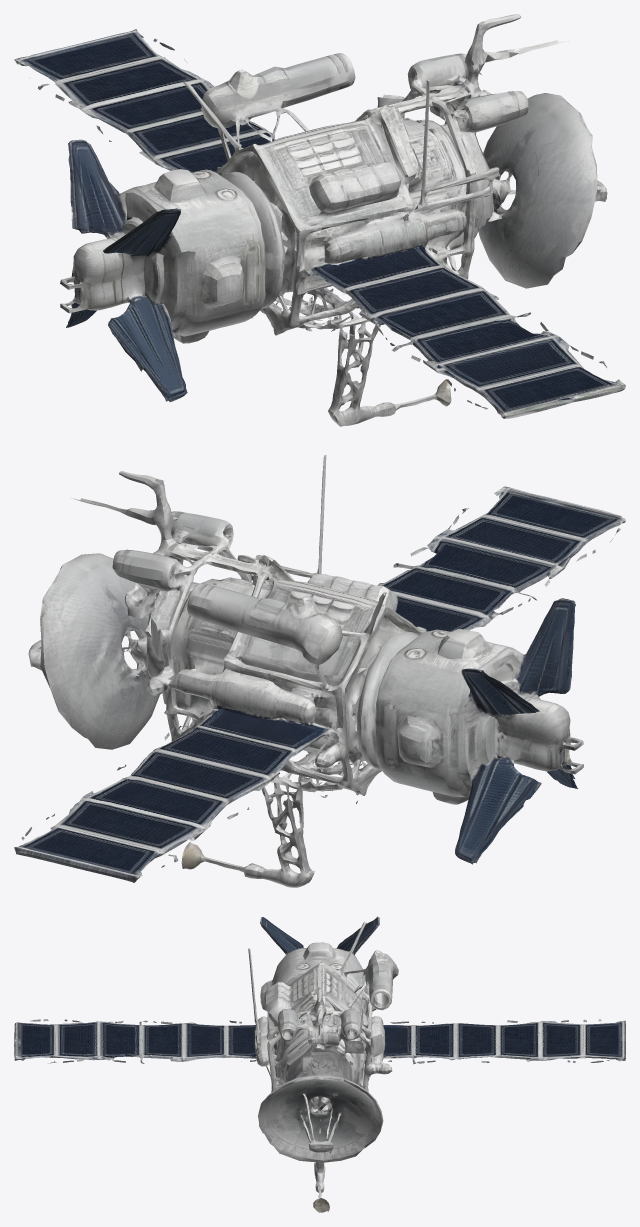
Rendered from sentinel-DAu9ob9N.glb.
3 renders of one model, top to bottom at view 1: azimuth 30°, elevation 25°; view 2: azimuth 150°, elevation 25°; view 3: azimuth 270°, elevation 25°, orthographic. The views are drawn at different scales.
Visible parts, largest first — view 1: Mesh0; view 2: Mesh0; view 3: Mesh0.
Part boxes in pixels (left/top/right/bottom): Mesh0: left=14, top=14, right=625, bottom=426; Mesh0: left=14, top=455, right=625, bottom=887; Mesh0: left=14, top=916, right=625, bottom=1212.
Bounding box in the file's own units: 1.22 × 0.8339 × 1.91.
Materials: 1 (1 with a texture image).
